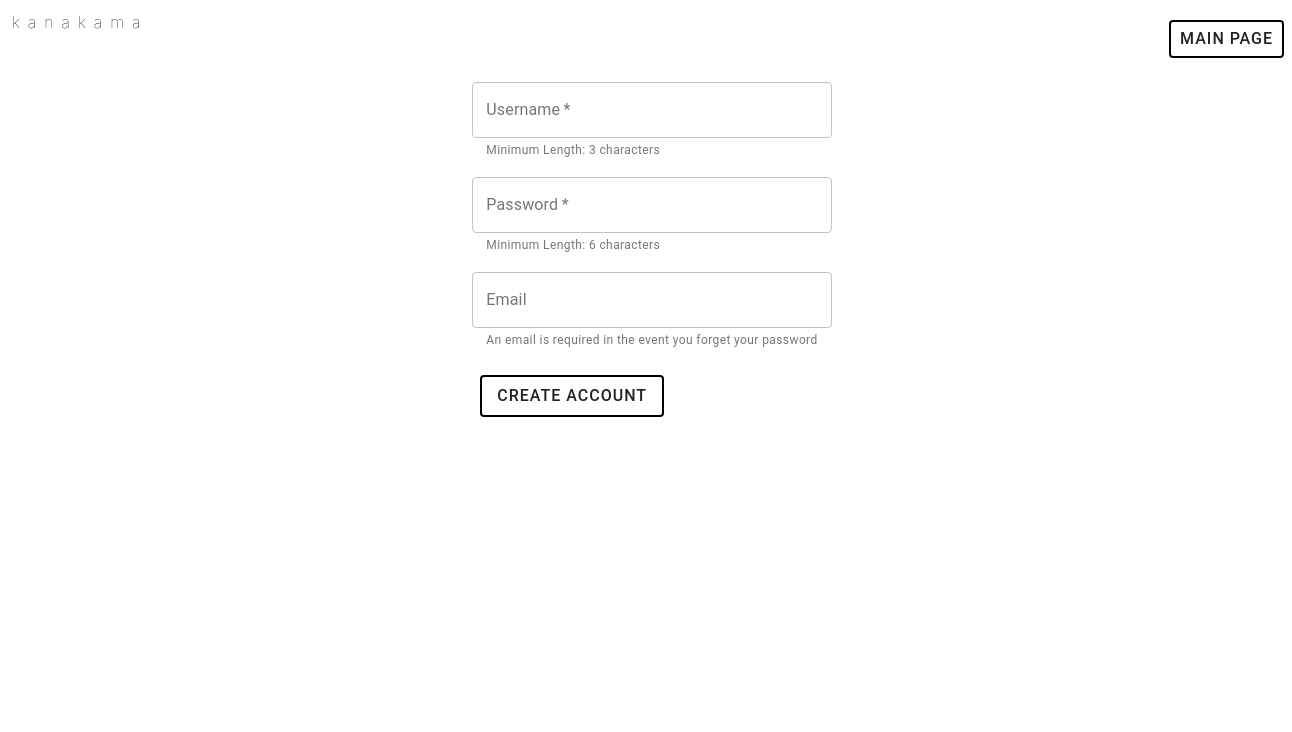
it: RegisterPage › displays an error message if an error is returned from submission
The width and height of the screenshot is (1292, 732).
Type "testUser" into the field labelled "Username *". click: (652,110)
box: [472,82,832,138]
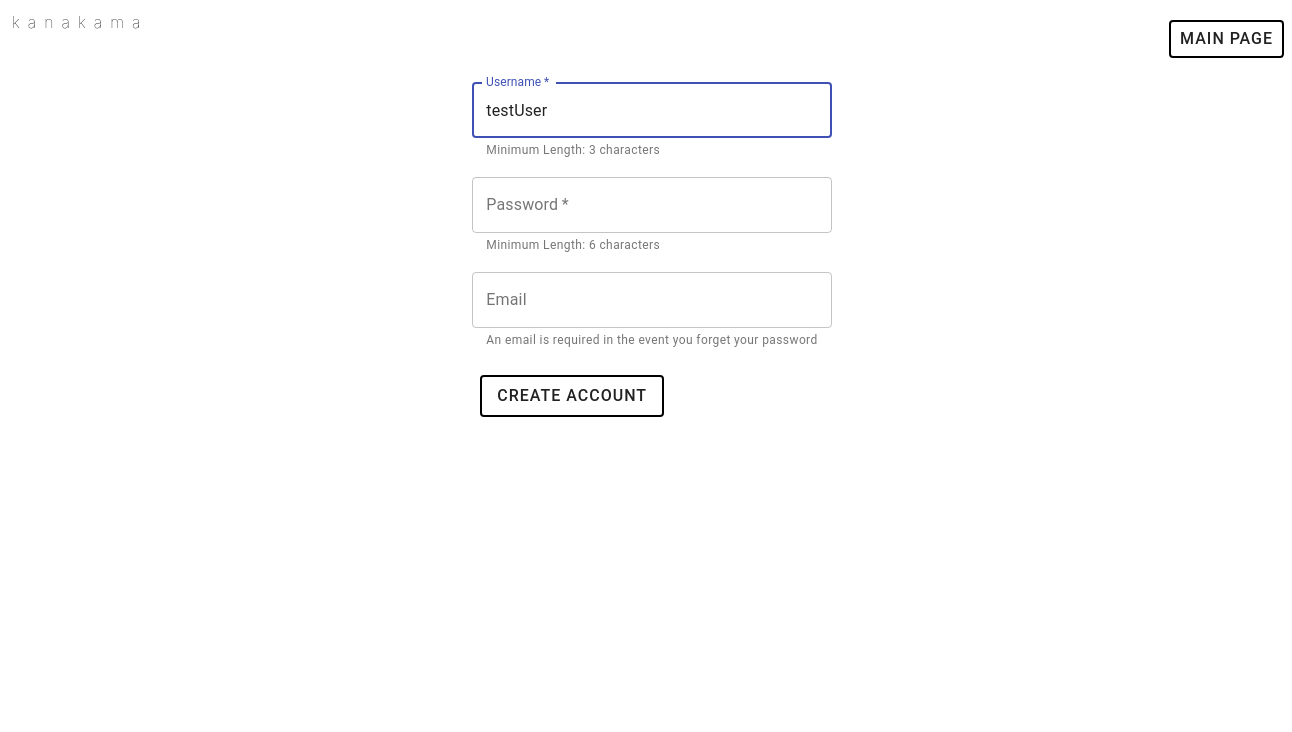
Type "testPassword" into the password field labelled "Password *". click: (652,205)
box: [472,177,832,233]
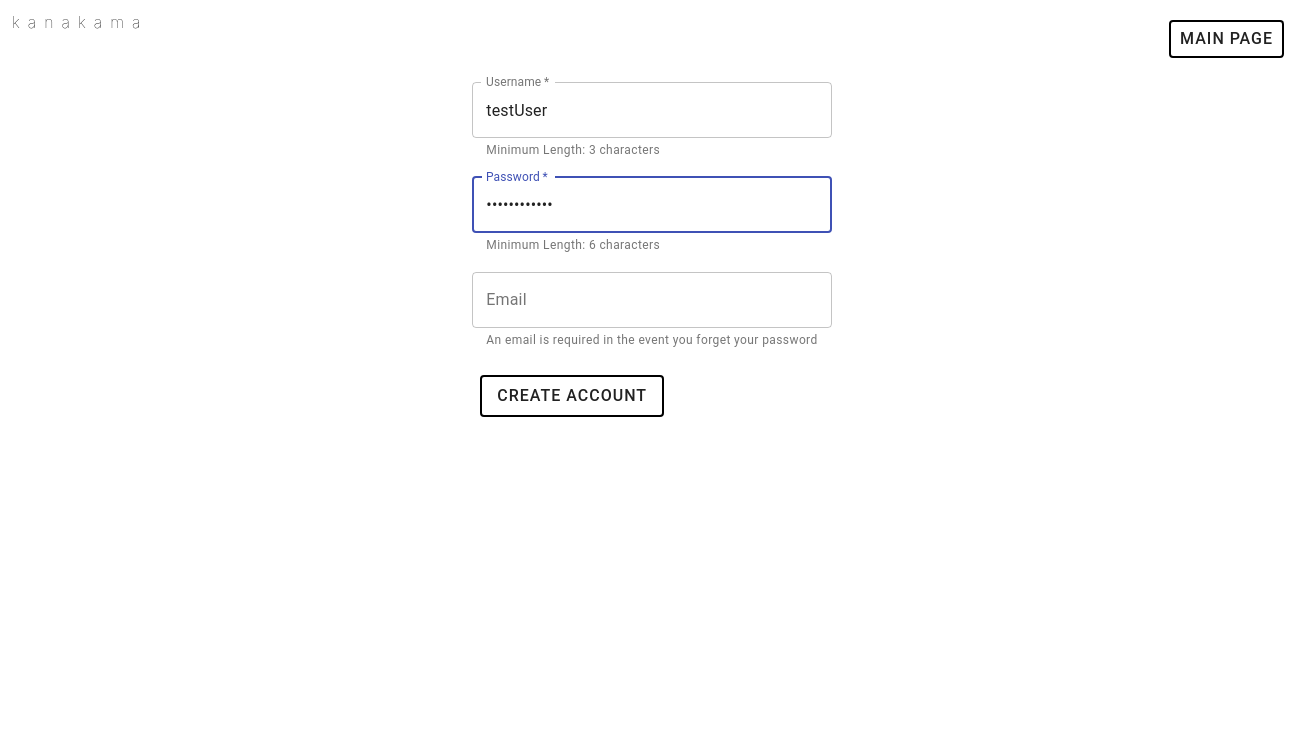
Submit the form from the button "Create Account", box [480,375,664,417]
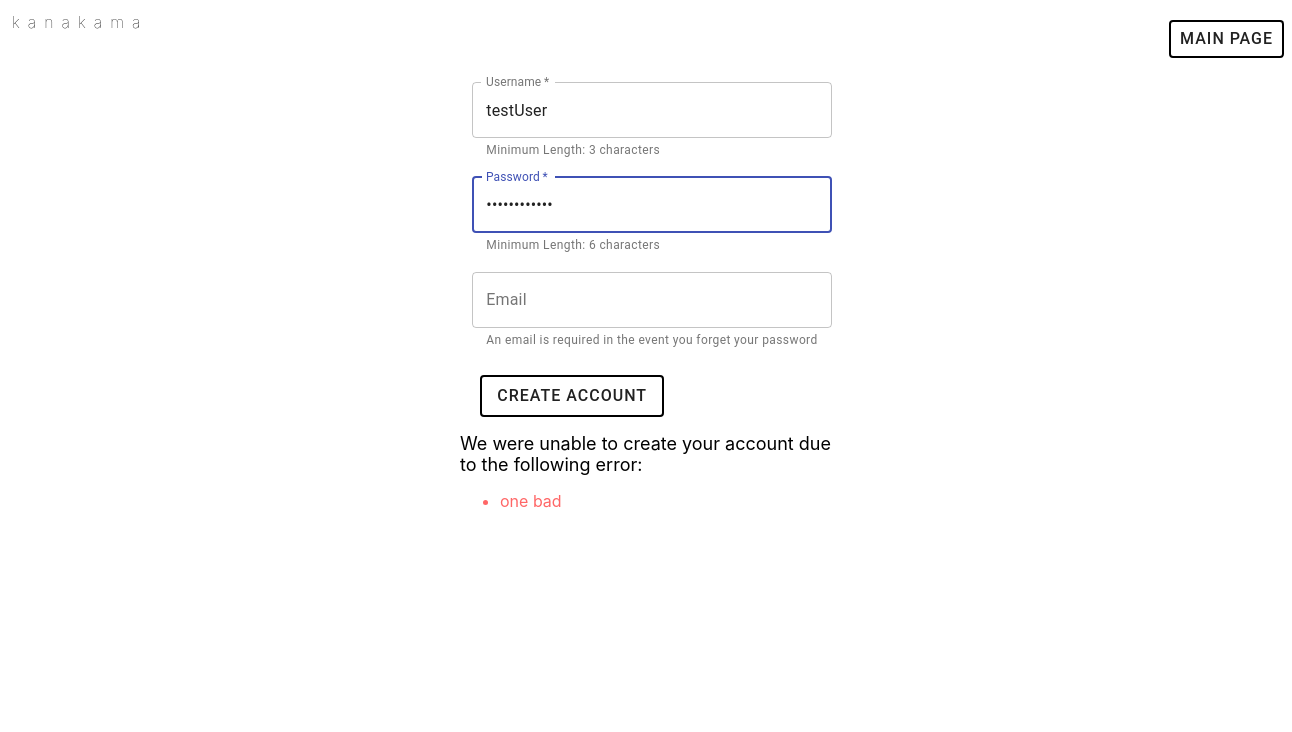
Check: the list item "one bad" is shown, box [500,491,562,511]
